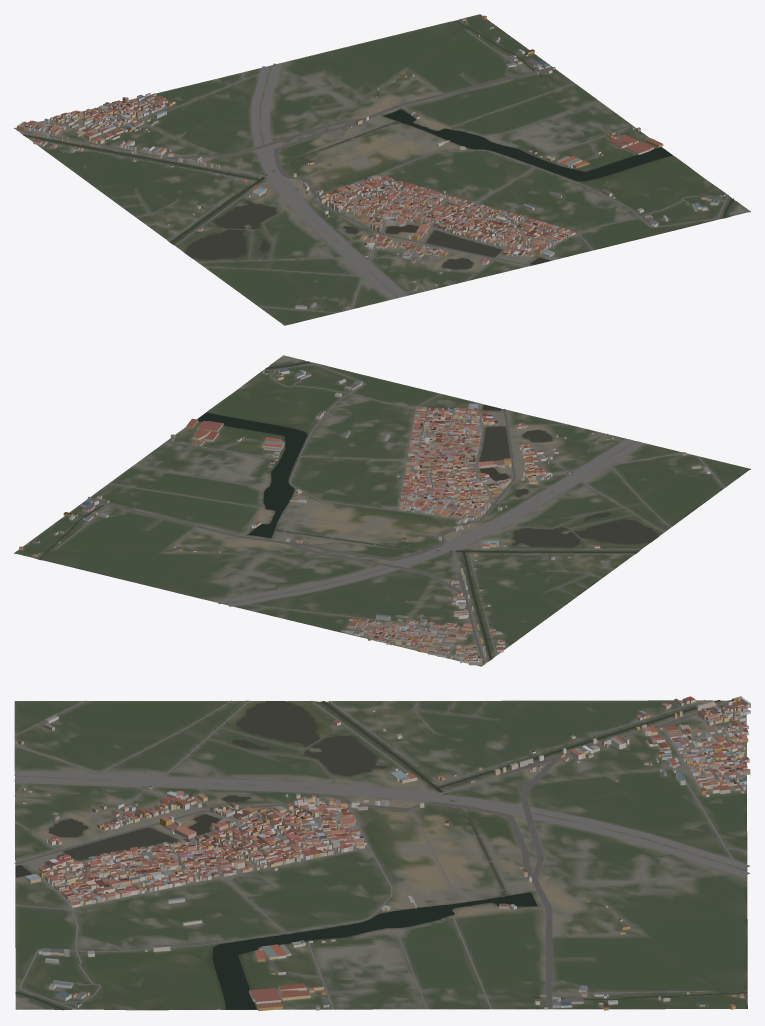
3 renders of one model, top to bottom at view 1: azimuth 30°, elevation 25°; view 2: azimuth 150°, elevation 25°; view 3: azimuth 270°, elevation 25°, orthographic. The views are drawn at different scales.
Visible parts, largest first — view 1: ground, buildings, roads, water; view 2: ground, buildings, roads, water; view 3: ground, buildings, roads, water.
Part boxes in pixels (x1,y1,x2,y2): ground: [14, 14, 750, 325]; buildings: [17, 15, 725, 309]; roads: [17, 31, 728, 312]; water: [23, 20, 733, 269]; ground: [14, 355, 750, 666]; buildings: [19, 368, 710, 665]; roads: [54, 364, 724, 664]; water: [39, 361, 657, 659]; ground: [14, 700, 747, 1010]; buildings: [18, 696, 750, 1010]; roads: [14, 700, 749, 1009]; water: [15, 700, 747, 1010].
Size of the model in its own units: 1411 by 22.11 by 1411.
